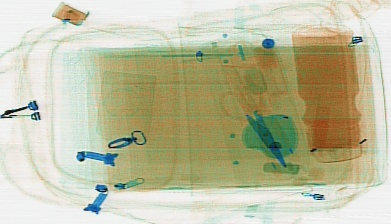scissors: (216, 80, 287, 168)
